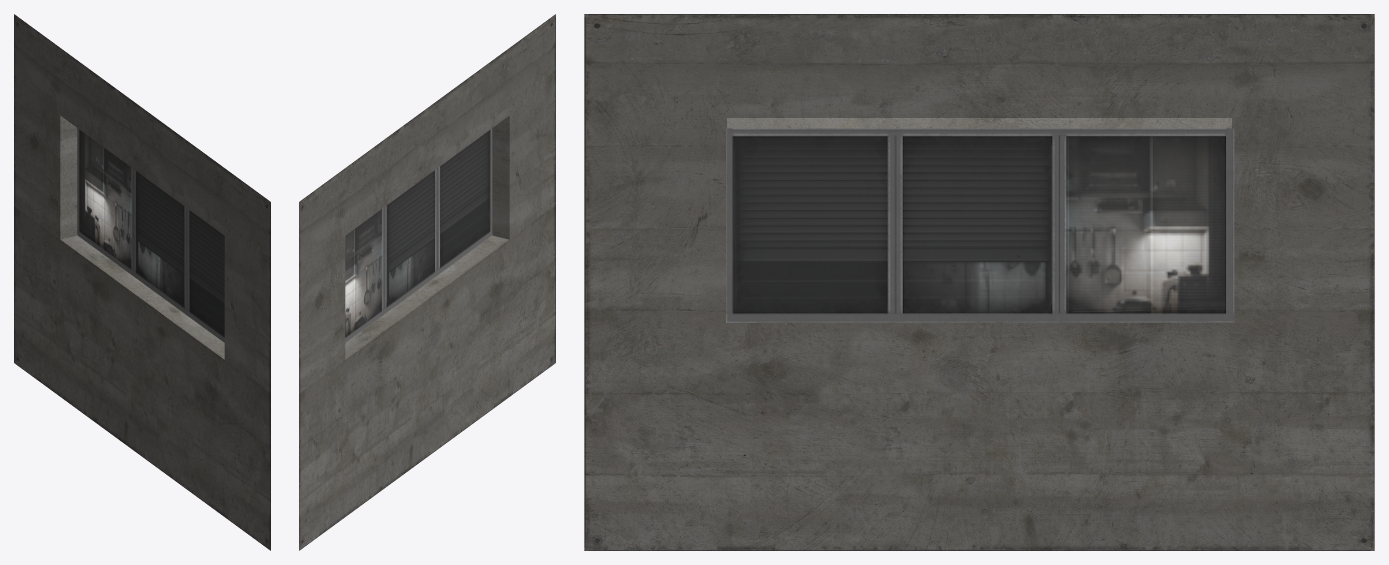
The model's file is CP_Windows_B_4x3m_07.fbx.
The picture shows the model from 3 angles, left to right: view 1: azimuth 30°, elevation 25°; view 2: azimuth 150°, elevation 25°; view 3: azimuth 270°, elevation 25°; orthographic projection. The views are drawn at different scales.
Parts seen in each view (by area): view 1: CP_Windows_B_4x3m_07; view 2: CP_Windows_B_4x3m_07; view 3: CP_Windows_B_4x3m_07.
Boxes of the visible parts, box(x1,y1,x2,y2) form: CP_Windows_B_4x3m_07: box(14, 14, 270, 550); CP_Windows_B_4x3m_07: box(299, 14, 555, 550); CP_Windows_B_4x3m_07: box(584, 14, 1374, 550).
Size of the model in its own units: 15.57 by 300 by 400.
